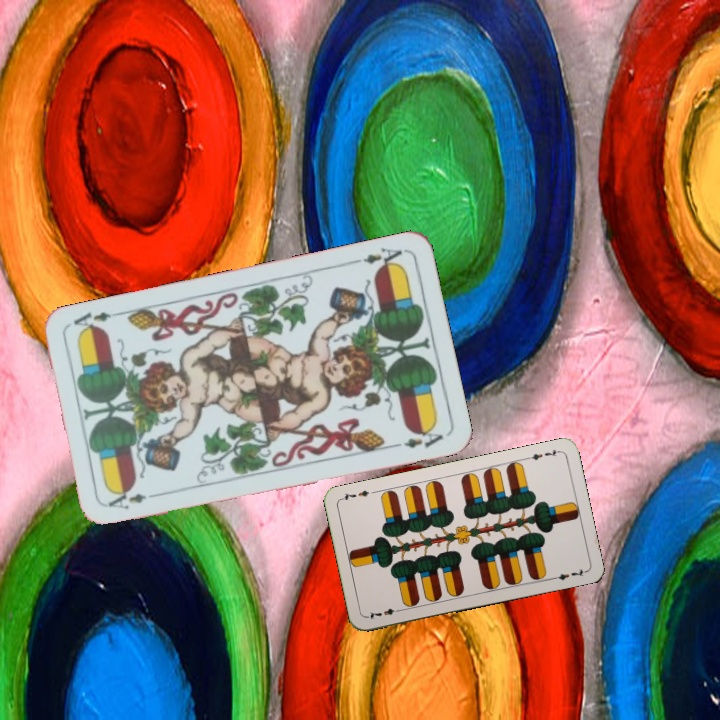E7: (363, 604, 404, 622), (522, 445, 562, 463)
EA: (348, 243, 405, 273), (104, 489, 163, 512)
